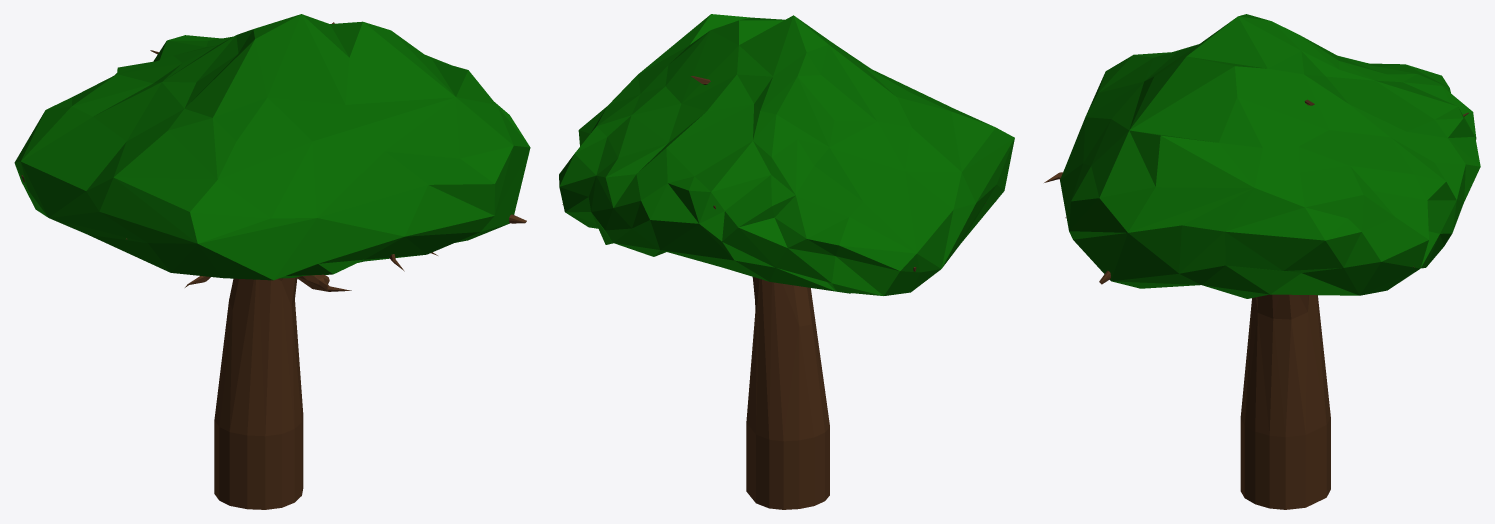
The model's file is Tree2.0.LOD.fbx.
The picture shows the model from 3 angles, left to right: view 1: azimuth 30°, elevation 25°; view 2: azimuth 150°, elevation 25°; view 3: azimuth 270°, elevation 25°; orthographic projection. The views are drawn at different scales.
Parts seen in each view (by area): view 1: Tree2.0_LOD0; view 2: Tree2.0_LOD0; view 3: Tree2.0_LOD0.
Boxes of the visible parts, x1,y1,x2,y2 form: Tree2.0_LOD0: (14, 14, 530, 509); Tree2.0_LOD0: (559, 14, 1014, 509); Tree2.0_LOD0: (1044, 14, 1480, 509).
Size of what is drawn, in the model's own units: 989 by 1179 by 967.
1 material, 1 textured.
